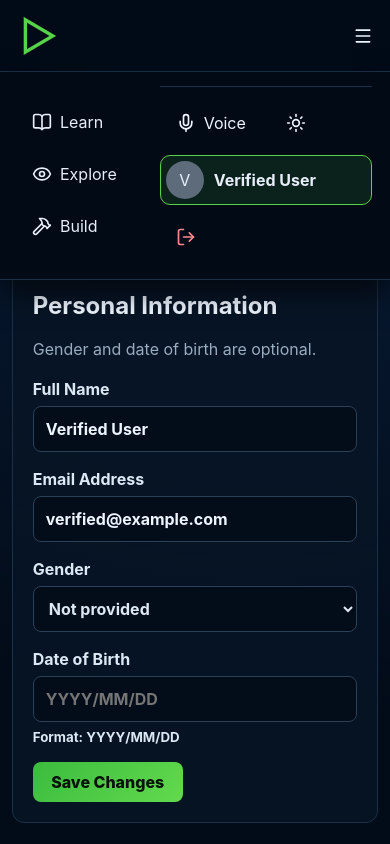
Test case: verified application session navigation › provides an accessible collapsible navigation menu
Click the button with class "workspaceMenuToggle" at (363, 36), box [344,14,382,56]
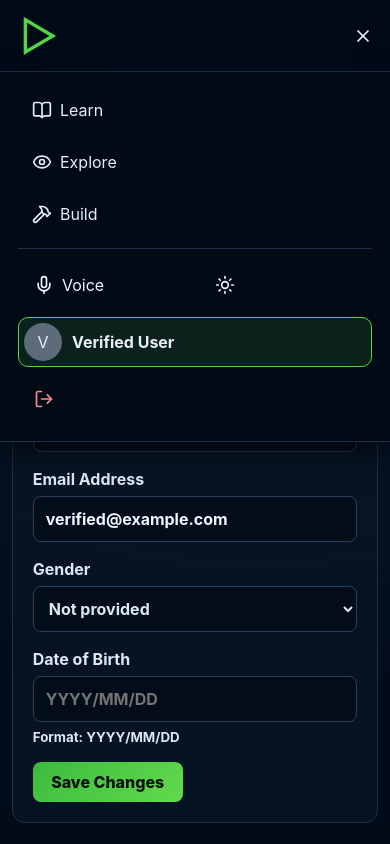
Check: the button with class "workspaceMenuToggle" is expanded, box [344,14,382,56]
